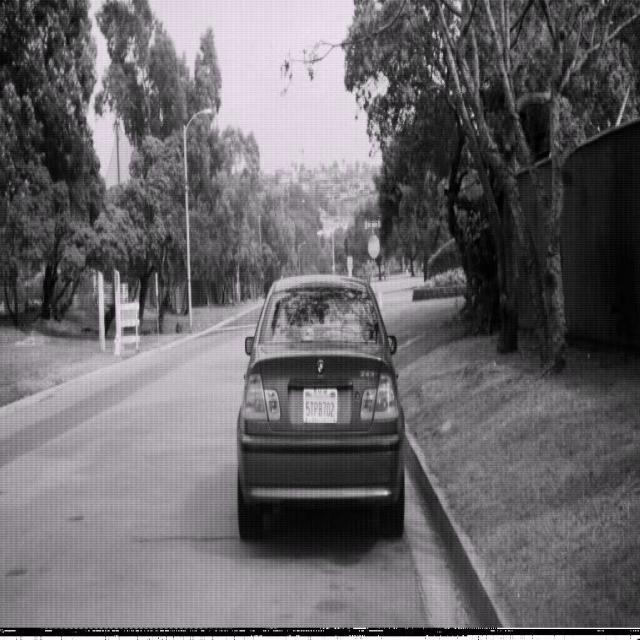stop: (367, 232, 381, 258)
